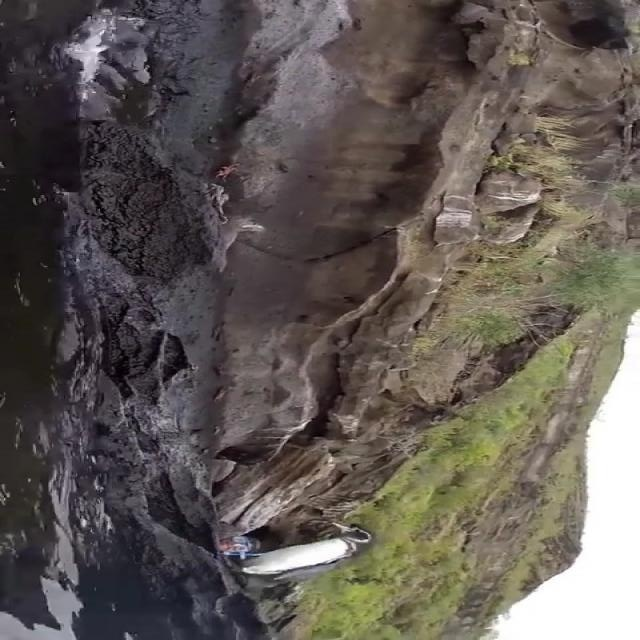penguin: (235, 521, 373, 586)
